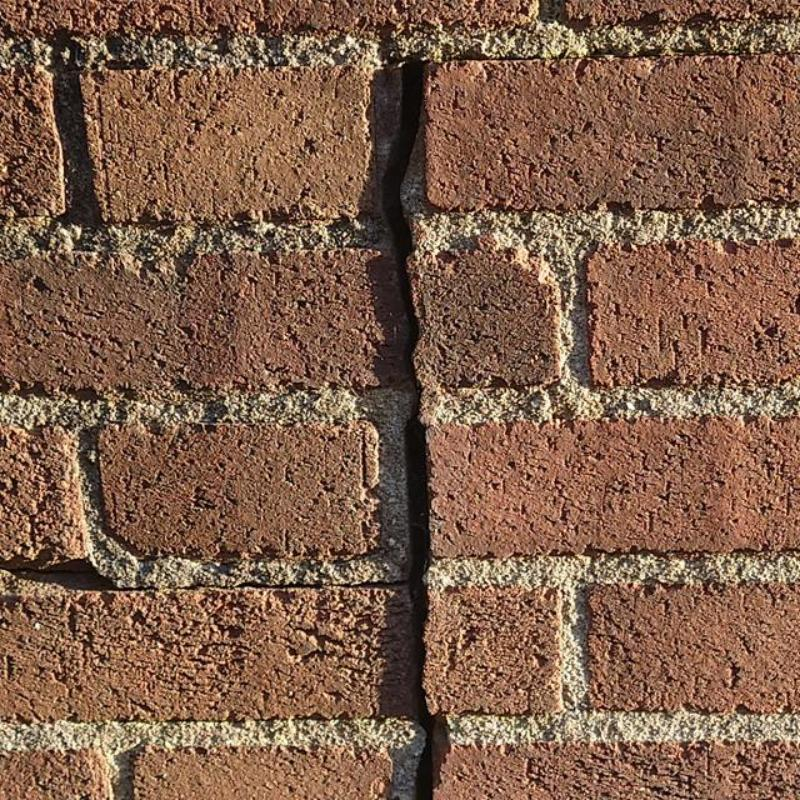pothole: (381, 62, 434, 799), (0, 565, 406, 594)
